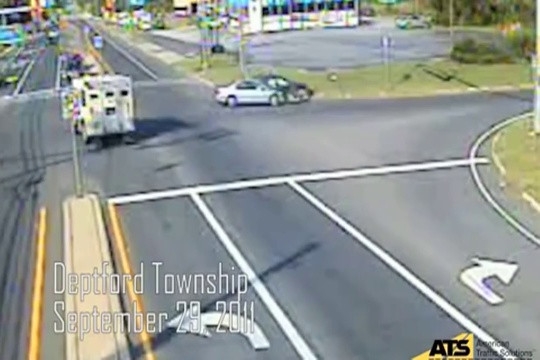car: (73, 69, 123, 147), (215, 81, 280, 112), (263, 76, 317, 104), (64, 55, 88, 75)
